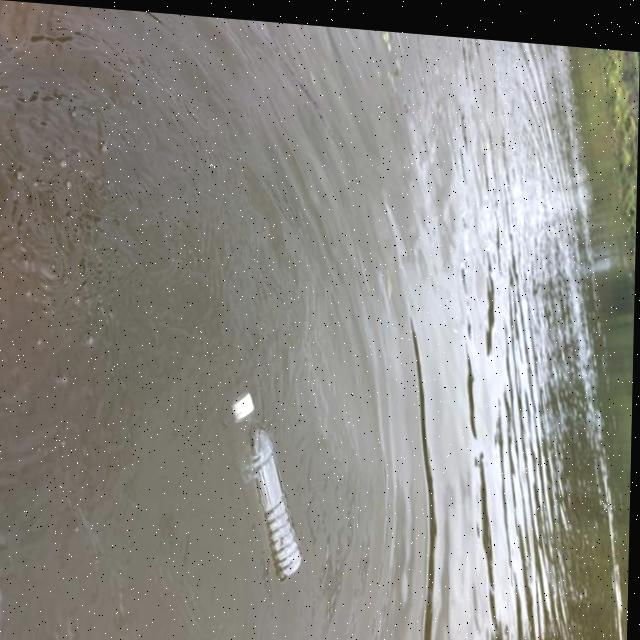waterbottle: (223, 377, 311, 589)
